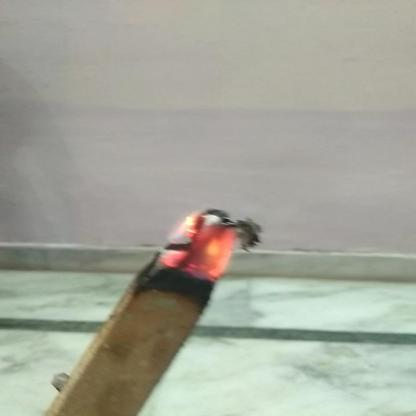fire: (160, 210, 240, 278)
